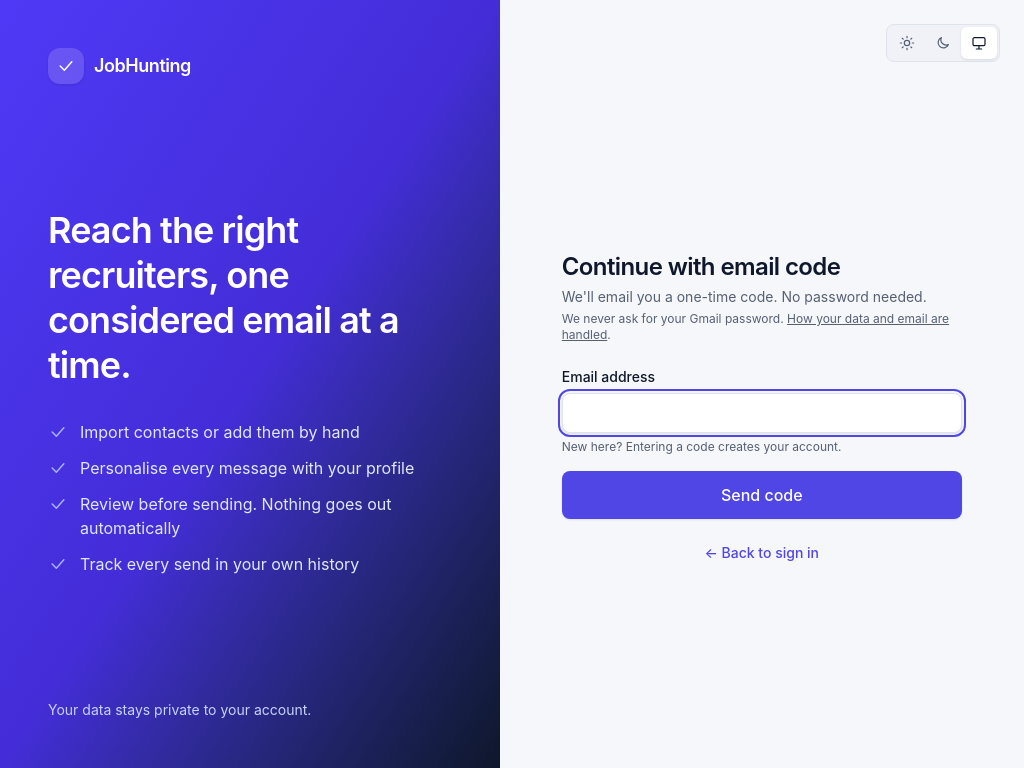
it: email OTP flow › explains rate limits and expired codes
Type "x@example.com" into the field labelled "Email address". click: coordinates (762, 413)
box: left=562, top=393, right=962, bottom=433
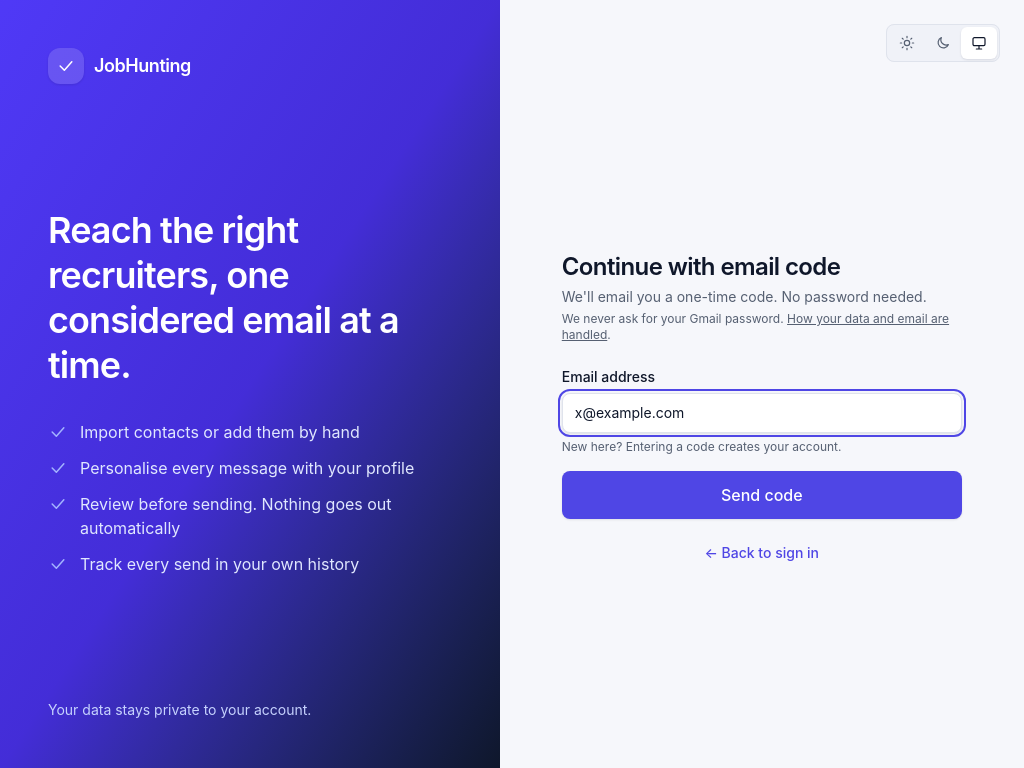
Click the button "Send code". click: coordinates (762, 495)
box: left=562, top=471, right=962, bottom=519
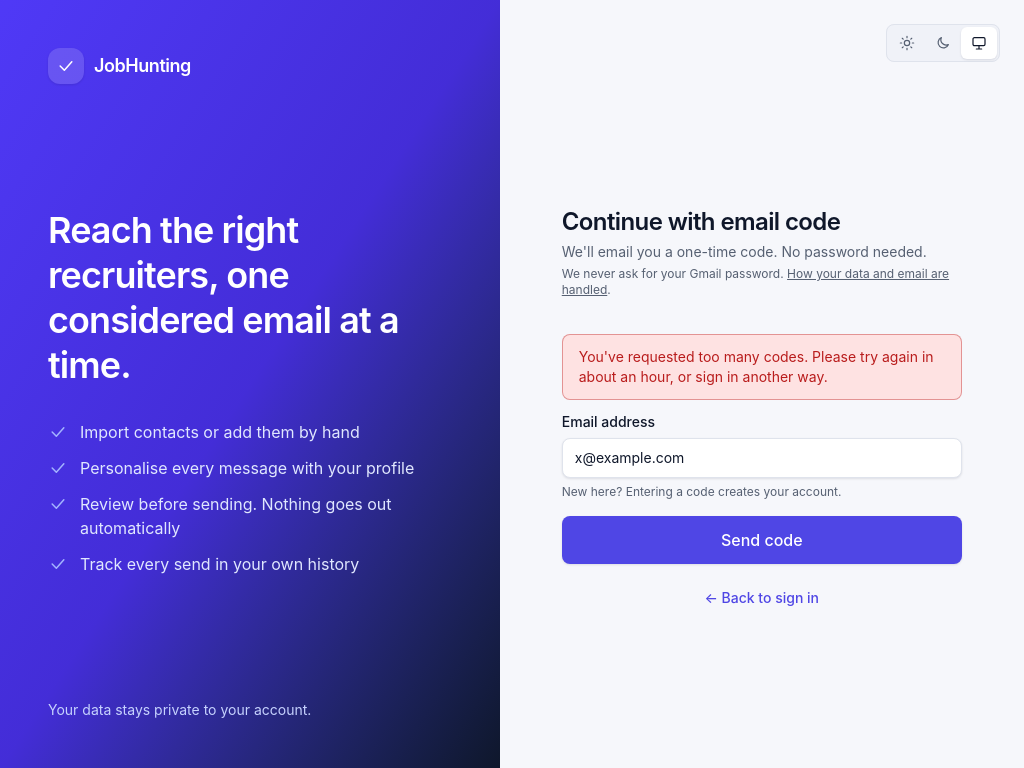
expect the message shows "too many codes": met, box left=579, top=348, right=934, bottom=385
